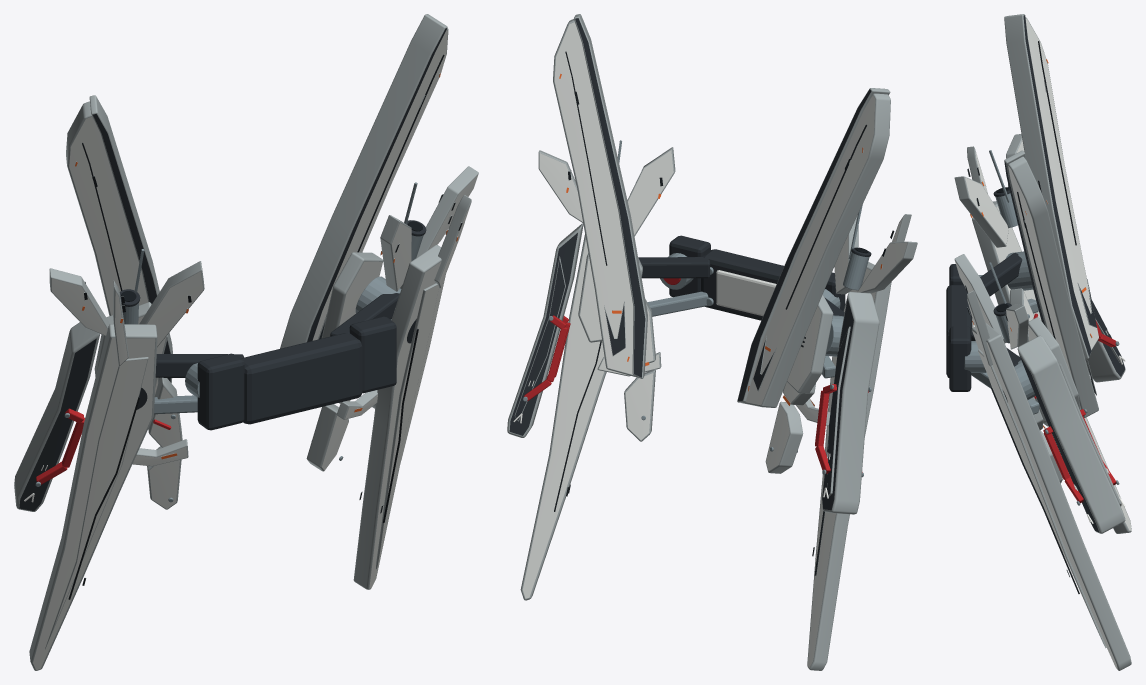
File: warden-tucked-back-wings-v2.glb
The picture shows the model from 3 angles, left to right: view 1: azimuth 30°, elevation 25°; view 2: azimuth 150°, elevation 25°; view 3: azimuth 270°, elevation 25°; orthographic projection. The views are drawn at different scales.
Visible parts, largest first — view 1: RW R long white lower spear, RW L tall blade graphite leading edge, RW L long white lower spear, RW Thoracic bridge, RW R tall swept rear blade, RW R dark outside spar, RW R spear layered face, RW L tall swept rear blade, RW R scapula load spreader, RW R tall blade graphite leading edge, RW L spear layered face, RW L scapula load spreader (+15 smaller); view 2: RW R tall swept rear blade, RW L tall swept rear blade, RW L long white lower spear, RW R dark outside spar, RW R long white lower spear, RW L tall blade graphite leading edge, RW L dark outside spar, RW R tall blade graphite leading edge, RW R back root armor, RW Thoracic bridge, RW L inner swept vane, RW Thoracic bridge inset (+12 smaller); view 3: RW L long white lower spear, RW L dark outside spar, RW L tall swept rear blade, RW R tall blade graphite leading edge, RW R tall swept rear blade, RW L spear layered face, RW R inner swept vane, RW R long white lower spear, RW L scapula load spreader, RW L inner swept vane, RW Thoracic bridge, RW R dark outside spar (+16 smaller).
Part boxes in pixels (left/top/right/bottom): RW R long white lower spear: left=29, top=324, right=157, bottom=670; RW L tall blade graphite leading edge: left=280, top=14, right=447, bottom=348; RW L long white lower spear: left=353, top=245, right=445, bottom=589; RW Thoracic bridge: left=241, top=333, right=362, bottom=424; RW R tall swept rear blade: left=66, top=101, right=157, bottom=394; RW R dark outside spar: left=14, top=322, right=99, bottom=511; RW R spear layered face: left=45, top=357, right=148, bottom=649; RW L tall swept rear blade: left=312, top=28, right=448, bottom=340; RW R scapula load spreader: left=197, top=353, right=244, bottom=430; RW R tall blade graphite leading edge: left=89, top=95, right=172, bottom=383; RW L spear layered face: left=376, top=283, right=438, bottom=568; RW L scapula load spreader: left=349, top=316, right=396, bottom=393; RW R tall swept rear blade: left=741, top=93, right=890, bottom=407; RW L tall swept rear blade: left=553, top=19, right=639, bottom=378; RW L long white lower spear: left=520, top=234, right=606, bottom=600; RW R dark outside spar: left=821, top=291, right=879, bottom=514; RW R long white lower spear: left=807, top=262, right=891, bottom=670; RW L tall blade graphite leading edge: left=574, top=14, right=647, bottom=378; RW L dark outside spar: left=507, top=223, right=583, bottom=437; RW R tall blade graphite leading edge: left=737, top=88, right=890, bottom=402; RW R back root armor: left=787, top=294, right=833, bottom=393; RW Thoracic bridge: left=701, top=249, right=783, bottom=320; RW L inner swept vane: left=627, top=147, right=675, bottom=236; RW Thoracic bridge inset: left=716, top=270, right=776, bottom=316; RW L long white lower spear: left=972, top=323, right=1131, bottom=670; RW L dark outside spar: left=1017, top=335, right=1125, bottom=533; RW L tall swept rear blade: left=1008, top=156, right=1098, bottom=417; RW R tall blade graphite leading edge: left=1004, top=14, right=1091, bottom=359; RW R tall swept rear blade: left=1025, top=17, right=1098, bottom=350; RW L spear layered face: left=978, top=349, right=1106, bottom=647; RW R inner swept vane: left=954, top=176, right=1008, bottom=247; RW R long white lower spear: left=972, top=201, right=1131, bottom=533; RW L scapula load spreader: left=949, top=326, right=971, bottom=391; RW L inner swept vane: left=954, top=254, right=1006, bottom=343; RW Thoracic bridge: left=946, top=285, right=972, bottom=377; RW R dark outside spar: left=1085, top=341, right=1125, bottom=382.
Bounding box in the file's own units: 1.91 × 2.64 × 0.854.
